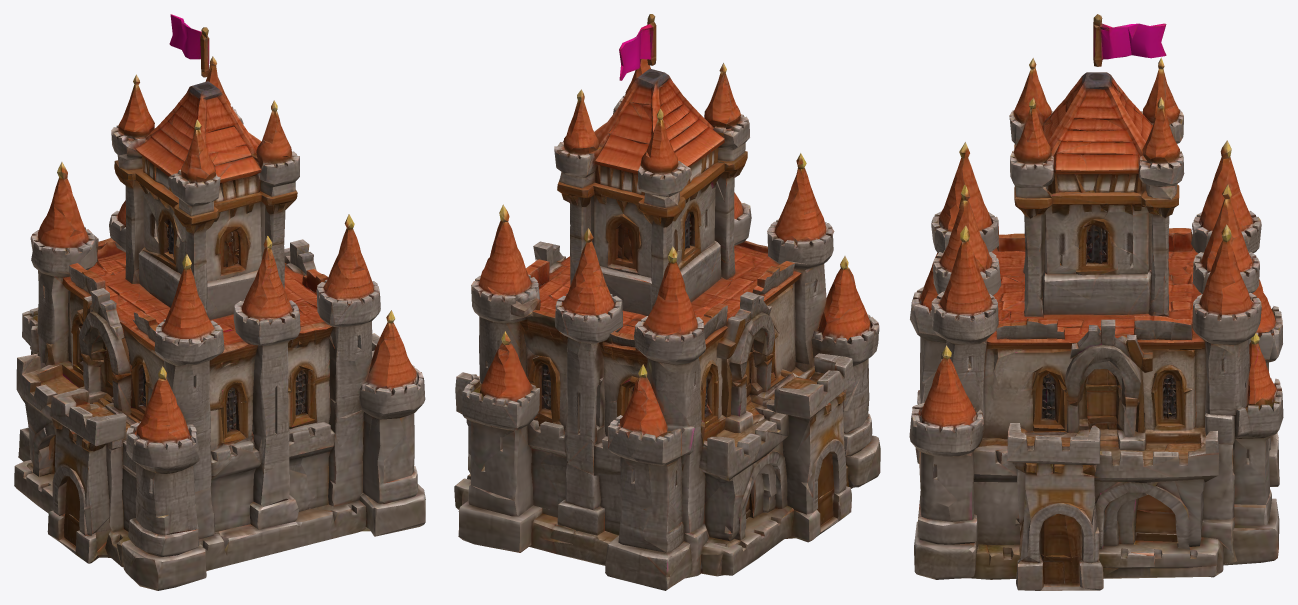
File: castle3.glb
3 views of the same model, side by side, from view 1: azimuth 30°, elevation 25°; view 2: azimuth 150°, elevation 25°; view 3: azimuth 270°, elevation 25° (orthographic). The views are drawn at different scales.
Visible parts, largest first — view 1: Mesh_0; view 2: Mesh_0; view 3: Mesh_0.
Part boxes in pixels (<box>): Mesh_0: <box>14,14,425,590</box>; Mesh_0: <box>454,14,880,590</box>; Mesh_0: <box>909,14,1283,590</box>.
Bounding box in the file's own units: 1.31 × 1.89 × 1.29.
1 material, 1 textured.
